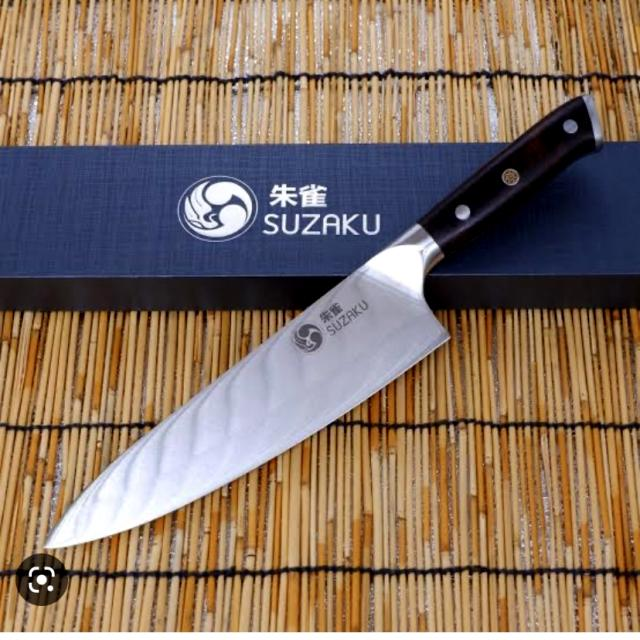knife: (25, 62, 629, 567)
